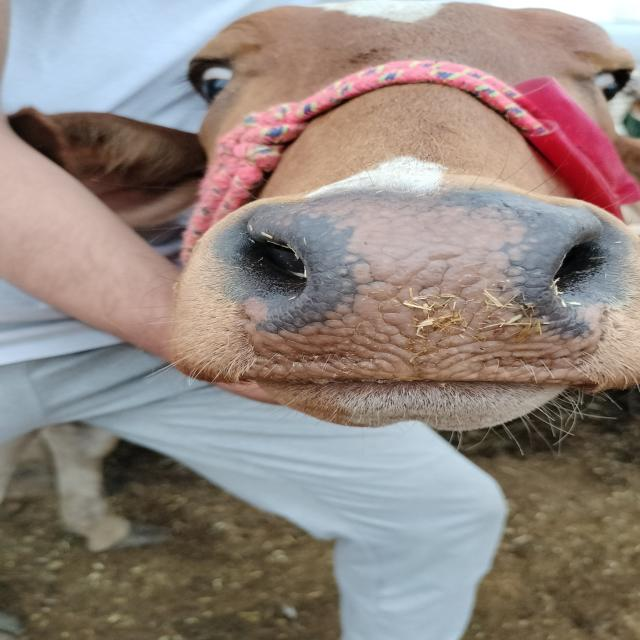muzzles: (194, 187, 640, 406)
